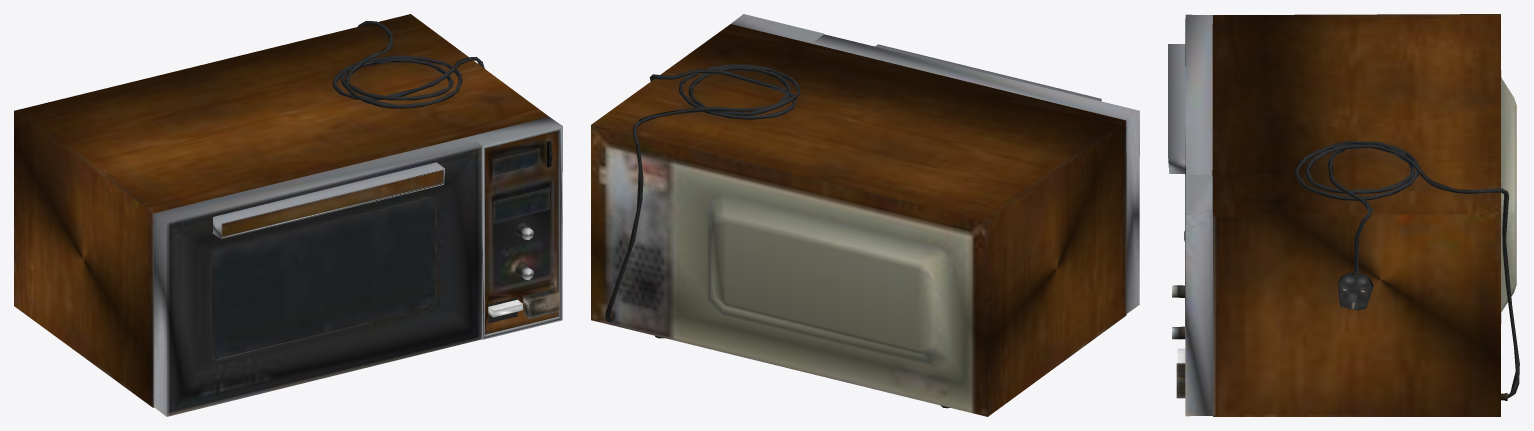
The model's file is vintage_microwave.glb.
3 views of the same model, side by side, from view 1: azimuth 30°, elevation 25°; view 2: azimuth 150°, elevation 25°; view 3: azimuth 270°, elevation 25° (orthographic). The views are drawn at different scales.
Parts seen in each view (by area): view 1: vintage_microwave; view 2: vintage_microwave; view 3: vintage_microwave.
Boxes of the visible parts, <box> form: vintage_microwave: <box>14,14,562,416</box>; vintage_microwave: <box>591,14,1139,416</box>; vintage_microwave: <box>1168,14,1519,416</box>.
Bounding box in the file's own units: 1.07 × 0.5258 × 0.7447.
2 materials, 2 textured.
